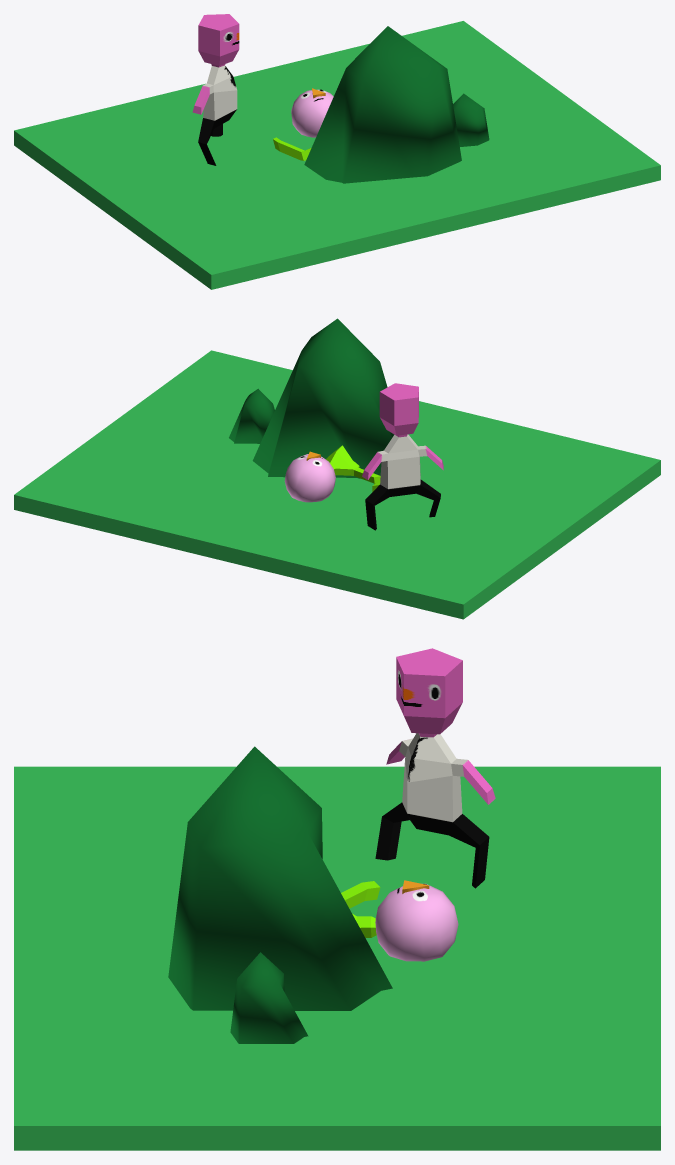
Rendered from help.glb.
The picture shows the model from 3 angles, top to bottom: view 1: azimuth 30°, elevation 25°; view 2: azimuth 150°, elevation 25°; view 3: azimuth 270°, elevation 25°; orthographic projection. The views are drawn at different scales.
Parts seen in each view (by area): view 1: Box001; view 2: Box001; view 3: Box001.
Part boxes in pixels (<box>): Box001: <box>14,14,660,289</box>; Box001: <box>14,318,660,619</box>; Box001: <box>14,648,660,1150</box>.
Size of the model in its own units: 576 by 198 by 438.
Materials: 1 (1 with a texture image).
